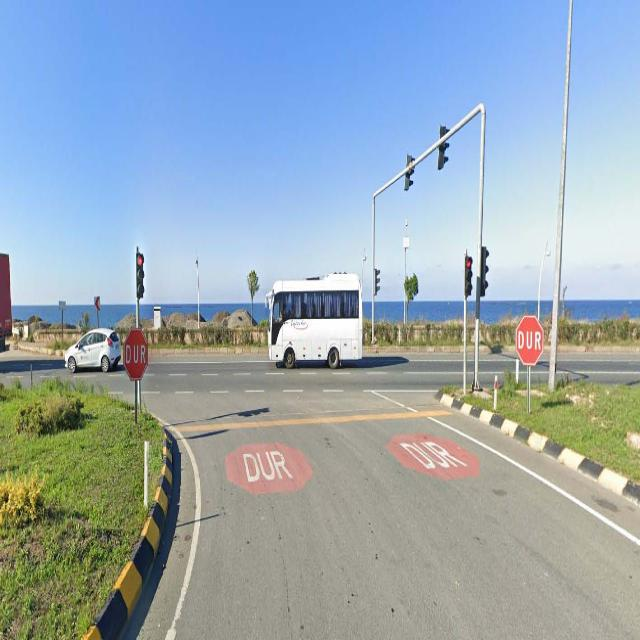dur: (518, 318, 544, 367), (124, 328, 147, 382)
kirmizi: (137, 254, 145, 298), (465, 256, 472, 298)
